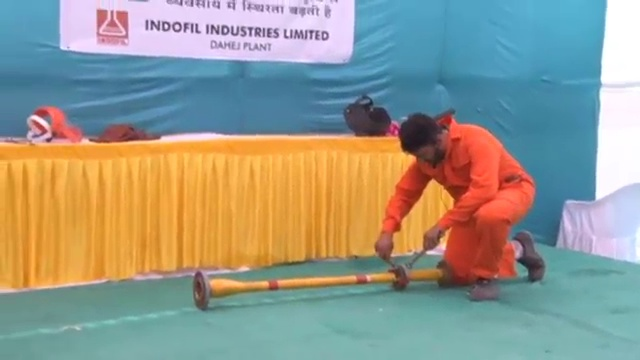helmet_off: (399, 112, 450, 164)
person: (380, 108, 545, 283)
